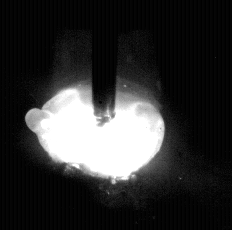arame: (92, 0, 118, 126)
poca: (25, 0, 164, 230)
